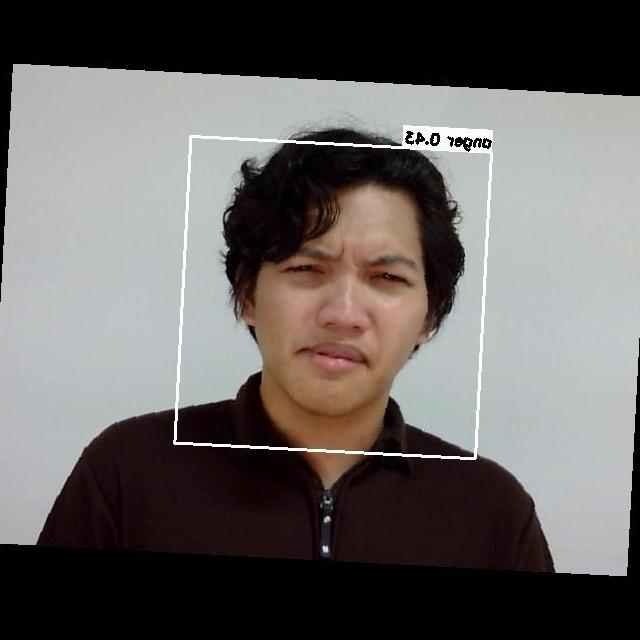Disgust: (247, 215, 432, 395)
